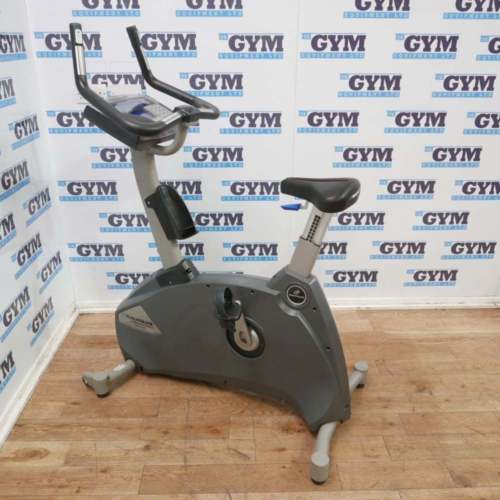gym_bike: (56, 24, 391, 490)
